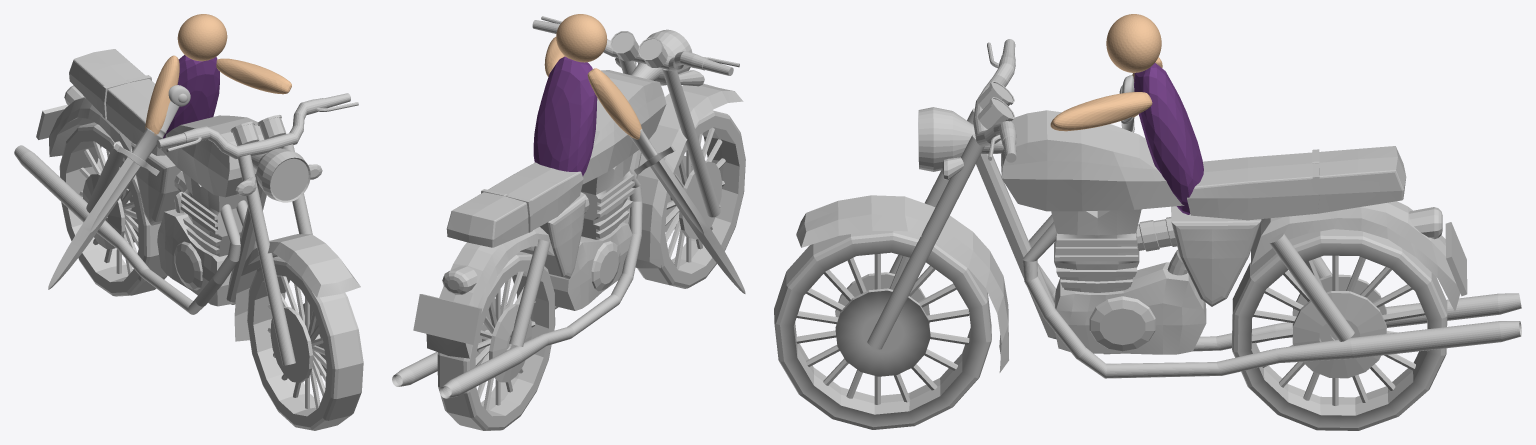
The model's file is bossbik2.obj.
The picture shows the model from 3 angles, left to right: view 1: azimuth 30°, elevation 25°; view 2: azimuth 150°, elevation 25°; view 3: azimuth 270°, elevation 25°; orthographic projection. The views are drawn at different scales.
Visible parts, largest first — view 1: Front_wheel_Cylinder.002, Rear_wheel_Cylinder.002, Seat_Cube.002, Exhaust_left_Cylinder.001, Front_water_Cube.001, Dagger, Gas_Tank_Cube.001, Engine_1_Cube.001, Front_bumper_left_Cylinder.001, Steering_Cylinder.001, Engine_2_Cube.001, Headlight_Cylinder.001 (+16 smaller); view 2: Rear_wheel_Cylinder.002, Front_wheel_Cylinder.002, Seat_Cube.002, 立方体.005, Front_water_Cube.001, Exhaust_left_Cylinder.001, Gas_Tank_Cube.001, Rear_water_Cube.001, Engine_1_Cube.001, Dagger, Engine_2_Cube.001, Licence_plate_Cube.001 (+15 smaller); view 3: Front_wheel_Cylinder.002, Rear_wheel_Cylinder.002, Gas_Tank_Cube.001, Seat_Cube.002, Exhaust_right_Cylinder.001, Front_water_Cube.001, Engine_2_Cube.001, Engine_1_Cube.001, Rear_water_Cube.001, 立方体.005, Engine_3_Cube.001, Front_wheel_inside_Cylinder.001 (+14 smaller).
Boxes of the visible parts, left/top/right/bottom form: Front_wheel_Cylinder.002: left=247, top=256, right=363, bottom=430; Rear_wheel_Cylinder.002: left=59, top=122, right=167, bottom=296; Seat_Cube.002: left=69, top=49, right=165, bottom=155; Exhaust_left_Cylinder.001: left=14, top=145, right=240, bottom=314; Front_water_Cube.001: left=234, top=234, right=360, bottom=341; Dagger: left=48, top=85, right=190, bottom=289; Gas_Tank_Cube.001: left=161, top=115, right=264, bottom=197; Engine_1_Cube.001: left=180, top=172, right=247, bottom=256; Front_bumper_left_Cylinder.001: left=238, top=154, right=295, bottom=365; Steering_Cylinder.001: left=156, top=93, right=350, bottom=159; Engine_2_Cube.001: left=157, top=209, right=235, bottom=306; Headlight_Cylinder.001: left=251, top=148, right=310, bottom=202; Rear_wheel_Cylinder.002: left=437, top=251, right=555, bottom=430; Front_wheel_Cylinder.002: left=637, top=110, right=745, bottom=288; Seat_Cube.002: left=446, top=162, right=583, bottom=247; 立方体.005: left=533, top=56, right=597, bottom=176; Front_water_Cube.001: left=629, top=83, right=743, bottom=268; Exhaust_left_Cylinder.001: left=439, top=168, right=642, bottom=398; Gas_Tank_Cube.001: left=582, top=70, right=666, bottom=184; Rear_water_Cube.001: left=426, top=227, right=554, bottom=358; Engine_1_Cube.001: left=581, top=154, right=635, bottom=239; Dagger: left=629, top=129, right=745, bottom=293; Engine_2_Cube.001: left=549, top=222, right=632, bottom=310; Licence_plate_Cube.001: left=413, top=294, right=482, bottom=344; Front_wheel_Cylinder.002: left=774, top=231, right=991, bottom=429; Rear_wheel_Cylinder.002: left=1232, top=229, right=1447, bottom=430; Gas_Tank_Cube.001: left=1001, top=110, right=1184, bottom=211; Seat_Cube.002: left=1187, top=146, right=1406, bottom=220; Exhaust_right_Cylinder.001: left=1022, top=222, right=1521, bottom=378; Front_water_Cube.001: left=796, top=195, right=1008, bottom=372; Engine_2_Cube.001: left=1054, top=262, right=1206, bottom=354; Engine_1_Cube.001: left=1051, top=209, right=1141, bottom=292; Rear_water_Cube.001: left=1251, top=201, right=1460, bottom=311; 立方体.005: left=1134, top=63, right=1203, bottom=214; Engine_3_Cube.001: left=1171, top=206, right=1261, bottom=306; Front_wheel_inside_Cylinder.001: left=796, top=253, right=969, bottom=404.
Bounding box in the file's own units: 3.77 × 4.72 × 7.85.
